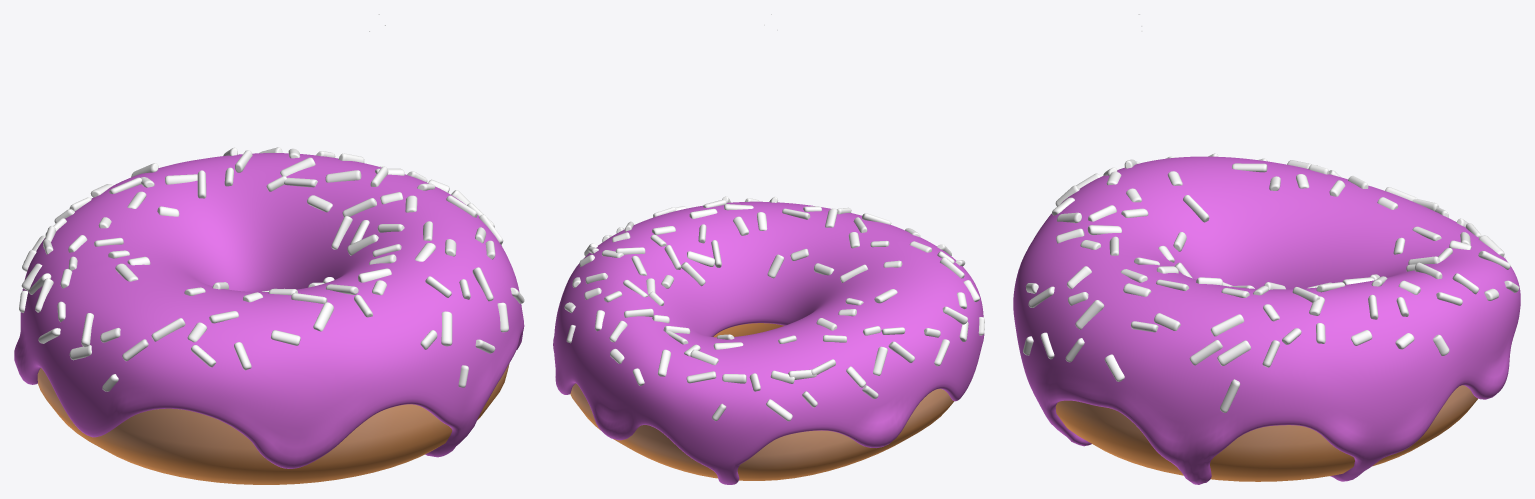
The model's file is test_donut2.glb.
3 renders of one model, left to right at view 1: azimuth 30°, elevation 25°; view 2: azimuth 150°, elevation 25°; view 3: azimuth 270°, elevation 25°, orthographic. The views are drawn at different scales.
Parts seen in each view (by area): view 1: icing, Donut; view 2: icing, Donut; view 3: icing, Donut.
Part boxes in pixels (box(x1,y1,x2,y2)): icing: box(14, 153, 524, 468); Donut: box(37, 364, 509, 484); icing: box(553, 201, 984, 484); Donut: box(570, 323, 954, 480); icing: box(1013, 156, 1520, 484); Donut: box(1055, 385, 1477, 481).
Size of the model in its own units: 1.51 by 1.41 by 1.53.
Materials: 3 (1 with a texture image).
